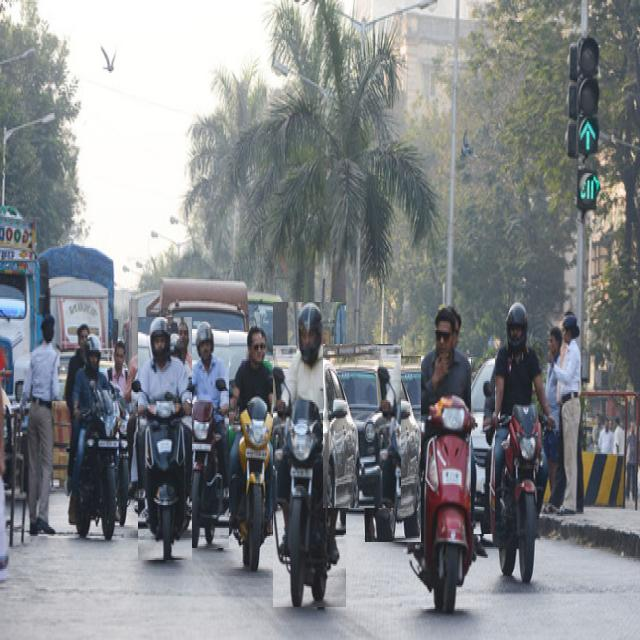car: (323, 344, 400, 508), (365, 356, 421, 542), (471, 359, 495, 534)
motorcycle: (409, 306, 482, 612), (273, 303, 345, 607), (490, 303, 555, 581), (138, 317, 192, 560), (229, 326, 280, 570), (69, 335, 120, 539), (186, 321, 229, 548)
